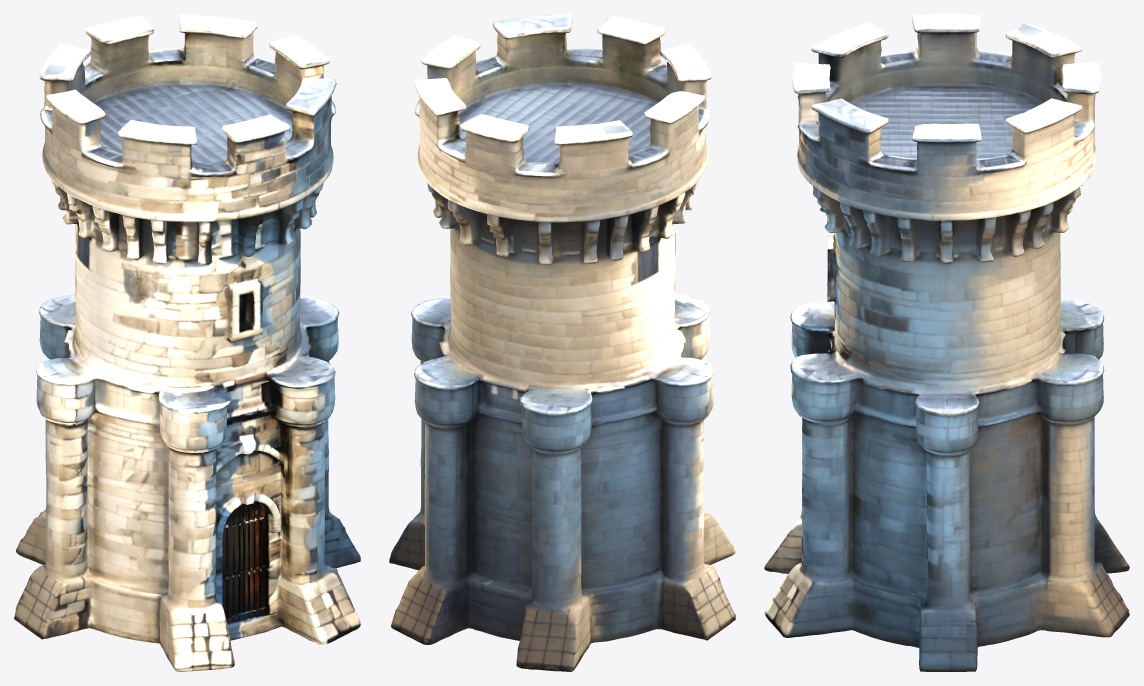
Rendered from stone-tower.glb.
3 views of the same model, side by side, from view 1: azimuth 30°, elevation 25°; view 2: azimuth 150°, elevation 25°; view 3: azimuth 270°, elevation 25° (orthographic).
Visible parts, largest first — view 1: model; view 2: model; view 3: model.
Part boxes in pixels (x1,y1,x2,y2): model: [14, 14, 360, 671]; model: [389, 14, 735, 671]; model: [764, 14, 1129, 671].
Size of the model in its own units: 1.2 by 1.85 by 1.18.
1 material, 1 textured.
